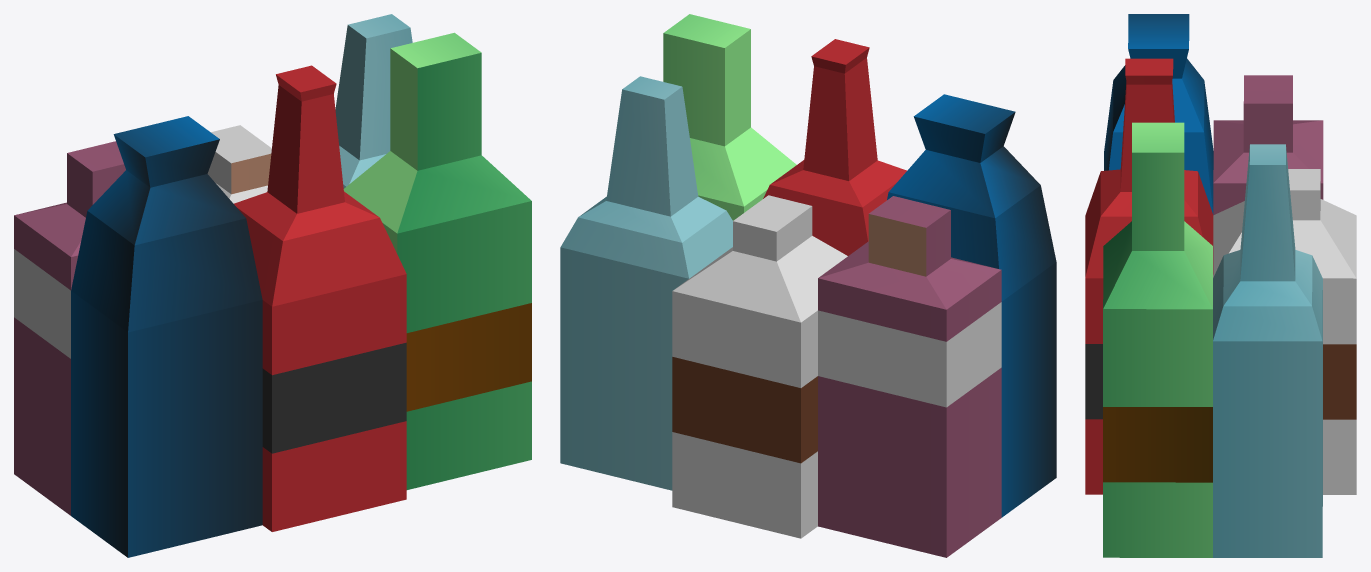
The model's file is B01_Bouteille pack.fbx.
3 renders of one model, left to right at view 1: azimuth 30°, elevation 25°; view 2: azimuth 150°, elevation 25°; view 3: azimuth 270°, elevation 25°, orthographic. The views are drawn at different scales.
Visible parts, largest first — view 1: B01_Bouteille pack; view 2: B01_Bouteille pack; view 3: B01_Bouteille pack.
Part boxes in pixels (box(x1,y1,x2,y2)): B01_Bouteille pack: box(14, 14, 531, 557); B01_Bouteille pack: box(560, 14, 1056, 557); B01_Bouteille pack: box(1085, 14, 1356, 557).
Bounding box in the file's own units: 25.52 × 24.92 × 15.48.
